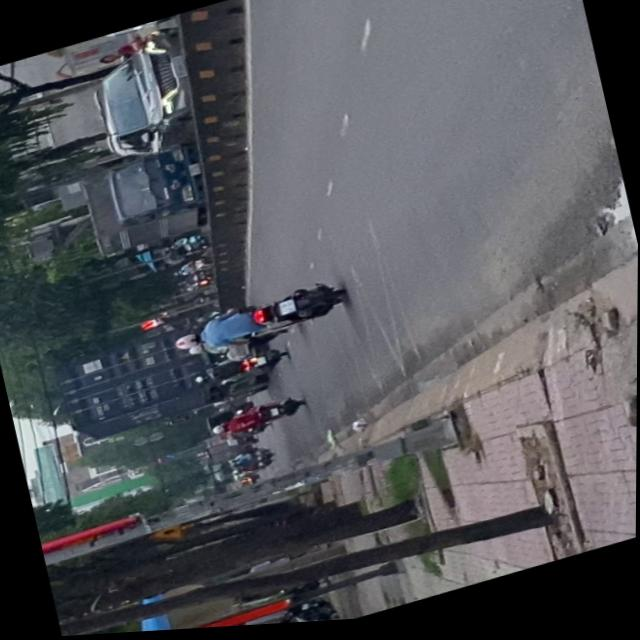helmet: (172, 333, 201, 353)
licenseplate: (168, 278, 350, 367)
nohelmet: (277, 302, 296, 320)
